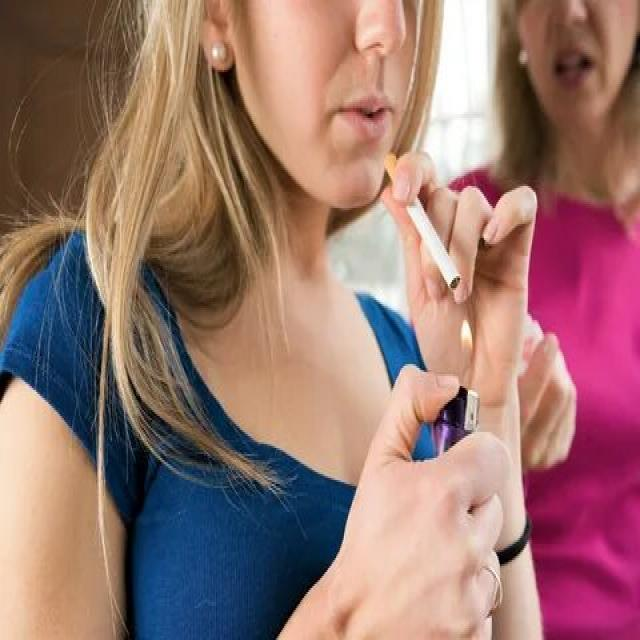cigarette: (382, 144, 462, 294)
